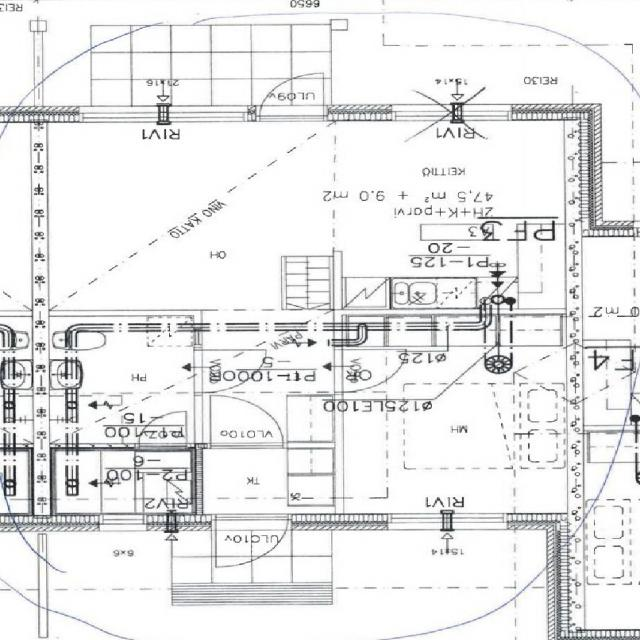door: (215, 513, 285, 576), (210, 394, 282, 448), (261, 62, 323, 120), (334, 349, 407, 392), (194, 350, 266, 392), (139, 412, 187, 452)
